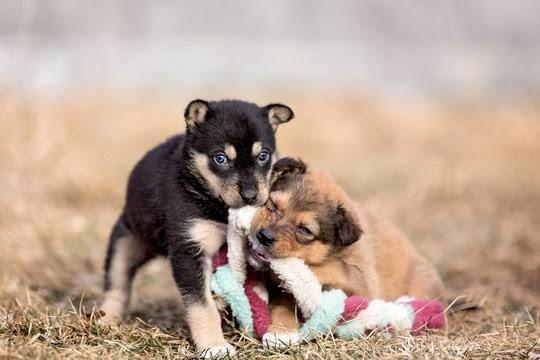puppy-dog: (97, 98, 296, 360), (245, 158, 451, 353)
